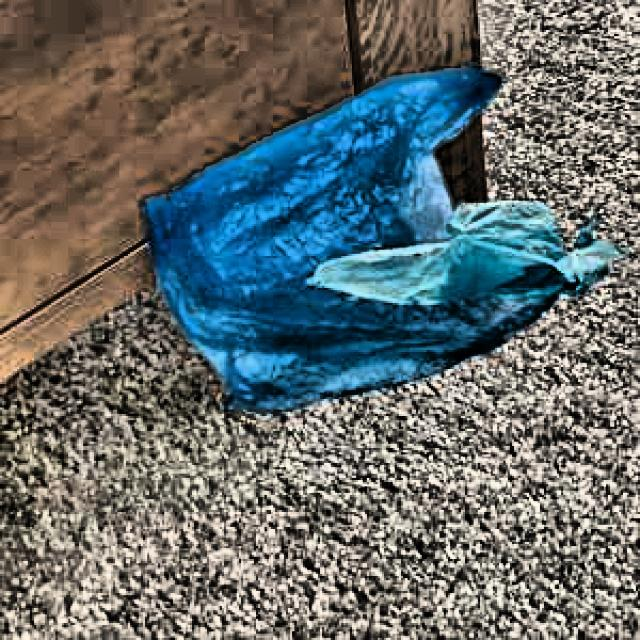Plastic: (131, 46, 616, 440)
